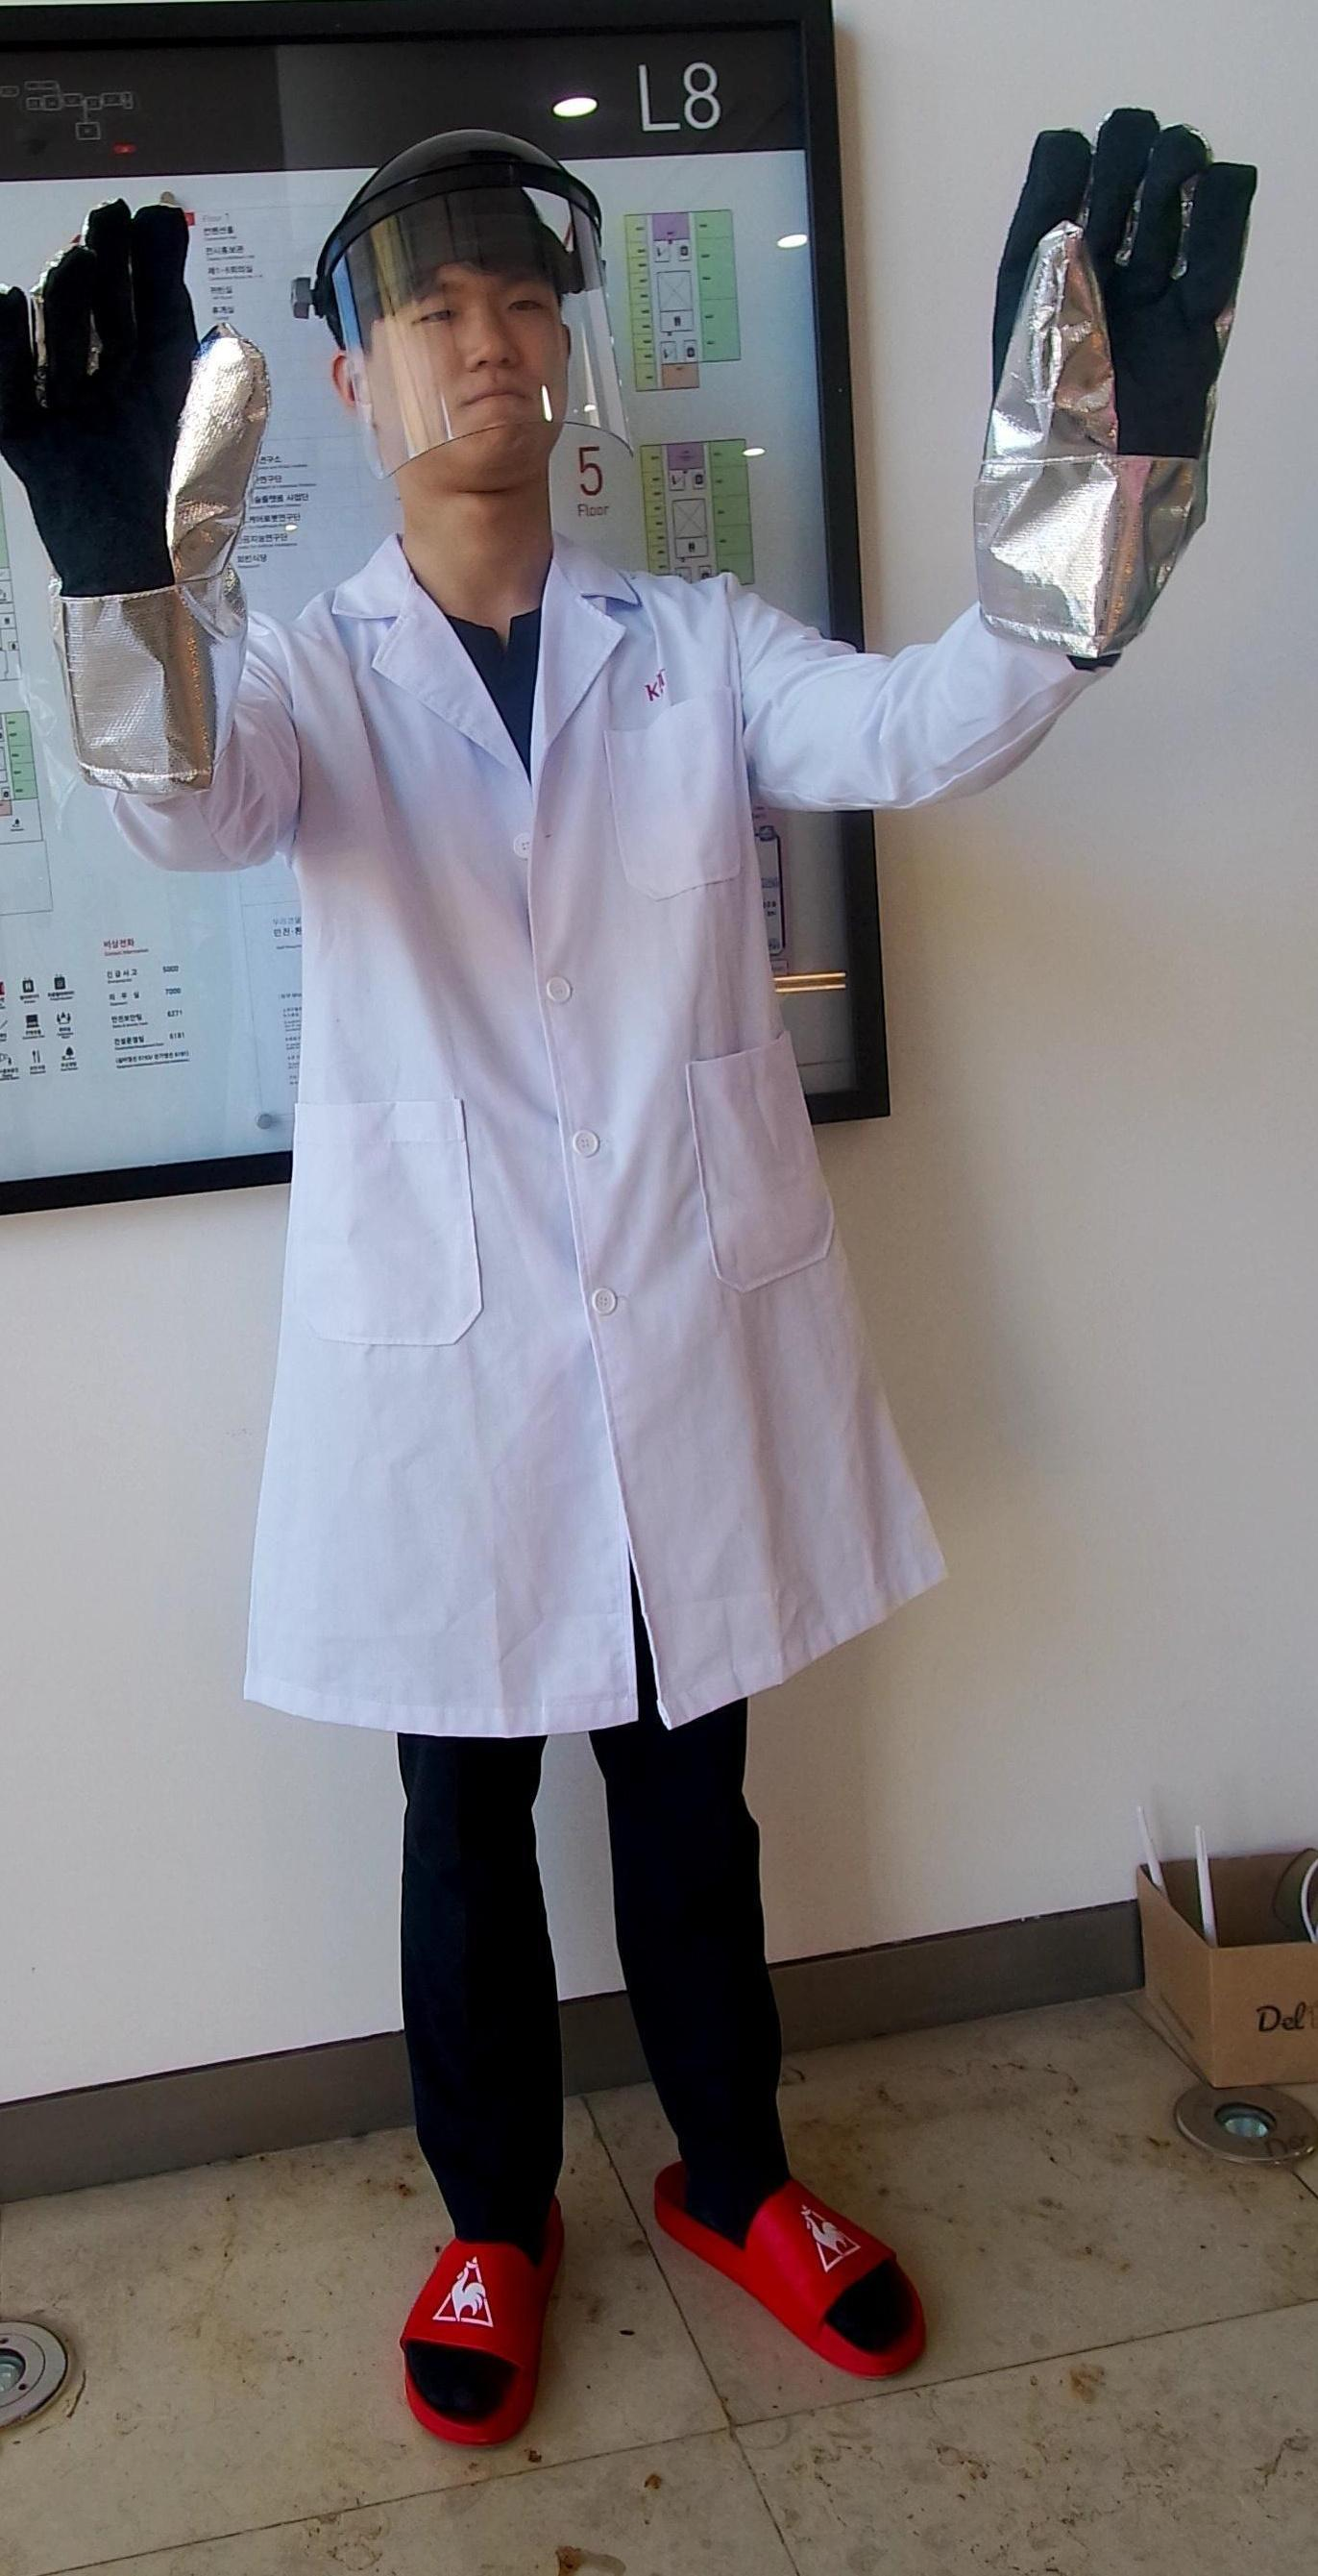lab_coat: (210, 563, 809, 1725)
